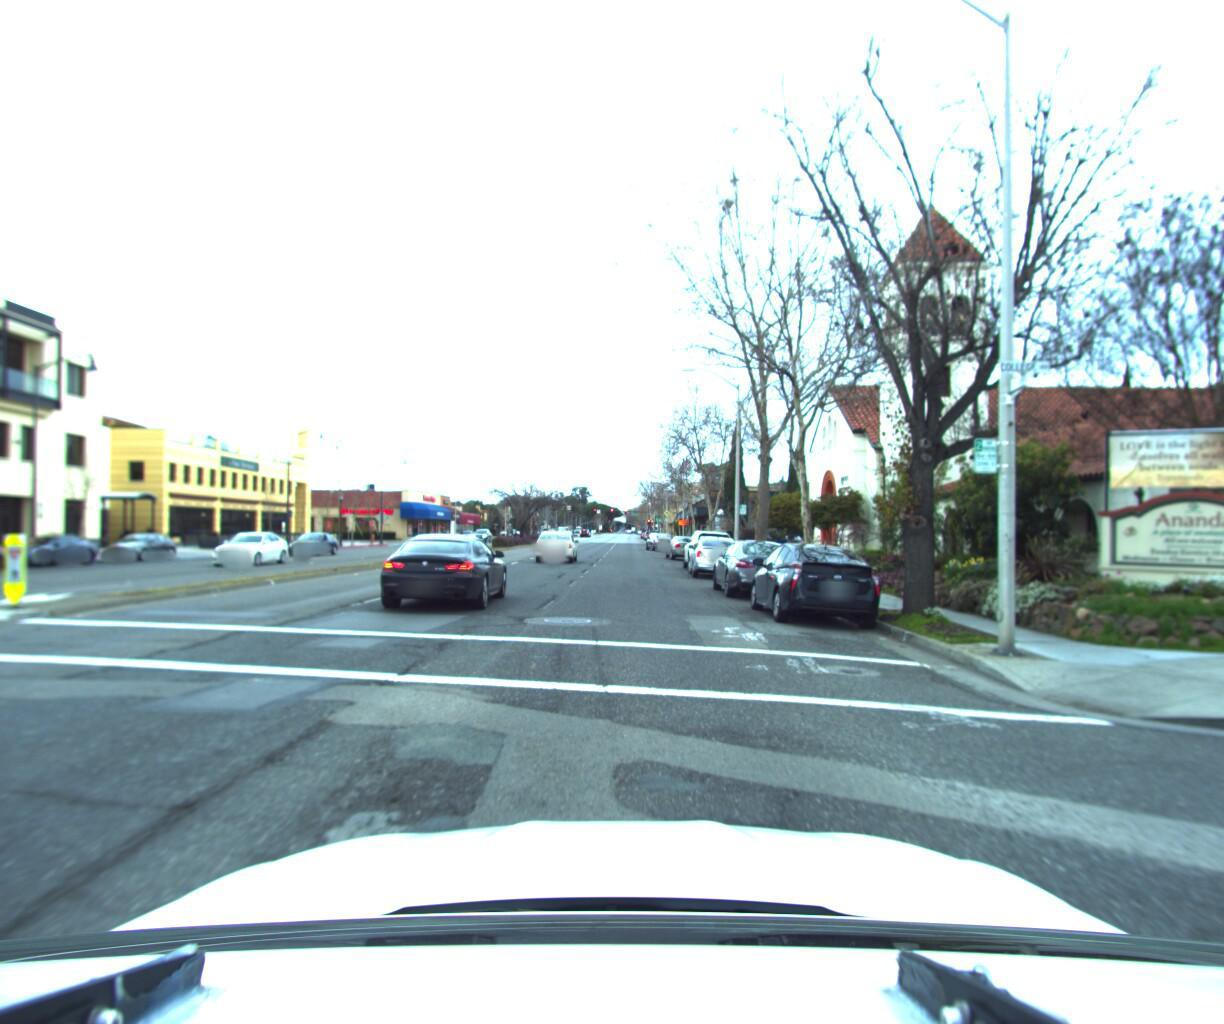car: (746, 538, 890, 630), (366, 527, 507, 613), (709, 533, 811, 600), (0, 534, 113, 570), (204, 530, 295, 568), (680, 526, 743, 571), (100, 532, 188, 563), (687, 532, 748, 577), (527, 524, 582, 561), (287, 532, 347, 557), (665, 532, 707, 559), (0, 535, 25, 578), (642, 529, 672, 548)
